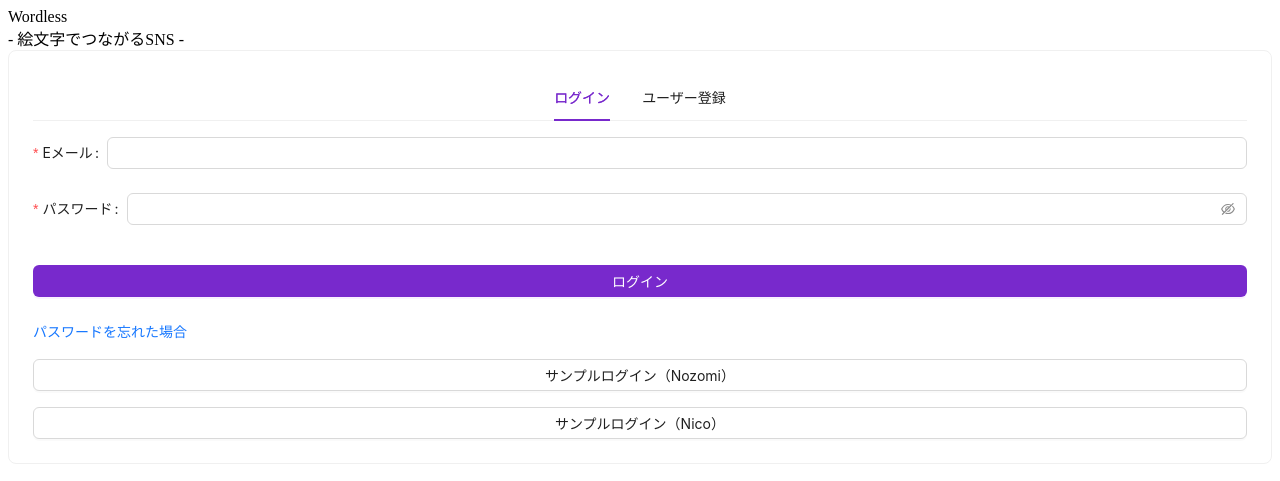
Test case: ユーザー登録タブ押下時 › ユーザー登録ボタンが表示されている
Click the tab "ユーザー登録" at (684, 98), box x1=642 y1=87 x2=726 y2=109
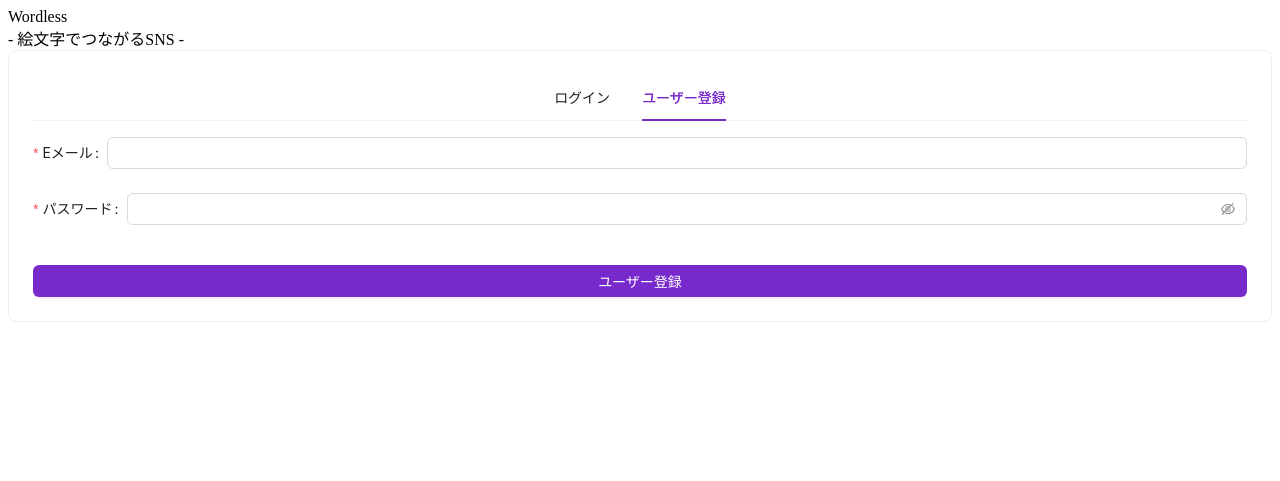
expect the button "ユーザー登録" is shown: met, box x1=33 y1=265 x2=1247 y2=297
